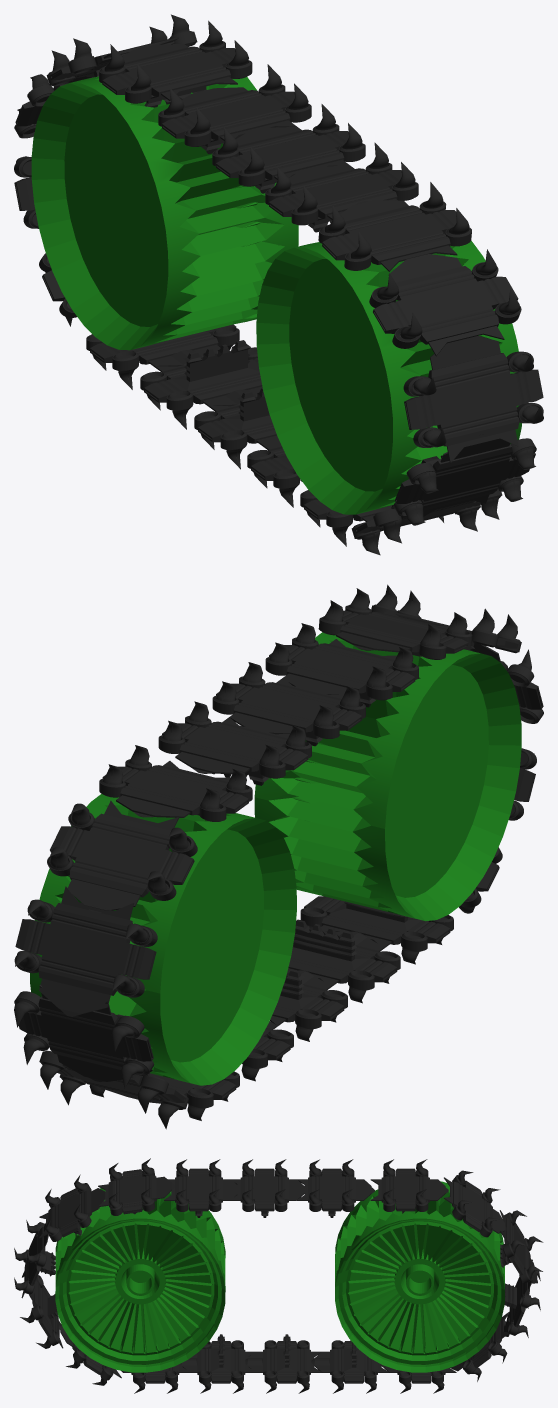
File: Wheel2.FBX
The picture shows the model from 3 angles, top to bottom: view 1: azimuth 30°, elevation 25°; view 2: azimuth 150°, elevation 25°; view 3: azimuth 270°, elevation 25°; orthographic projection. The views are drawn at different scales.
Parts seen in each view (by area): view 1: Wheel2; view 2: Wheel2; view 3: Wheel2.
Part boxes in pixels (<box>): Wheel2: <box>14,14,543,555</box>; Wheel2: <box>14,584,543,1129</box>; Wheel2: <box>14,1158,543,1393</box>.
Bounding box in the file's own units: 38.15 × 91.62 × 213.
